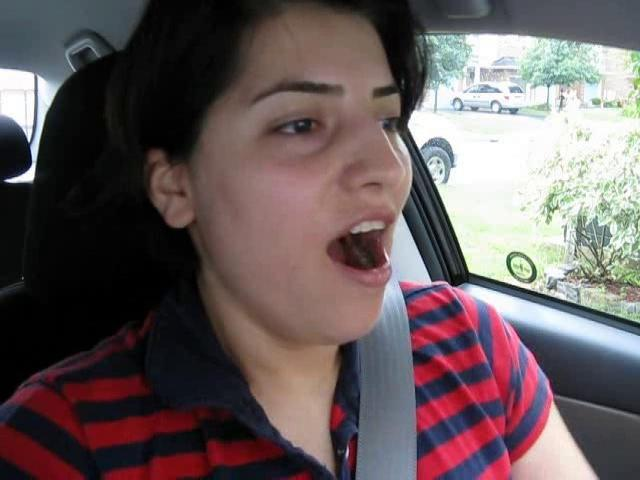eye_open: (263, 106, 328, 147), (375, 108, 402, 136)
face: (216, 59, 416, 358)
mouth_open: (317, 207, 397, 290)
